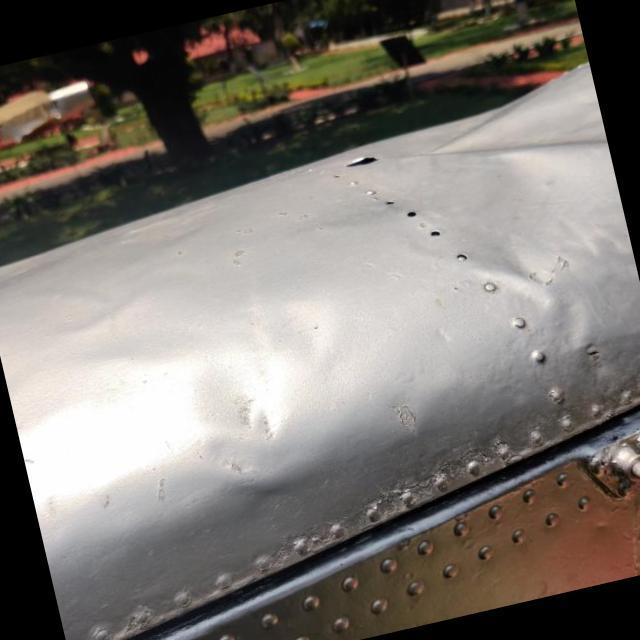Dent: (458, 207, 601, 331), (216, 442, 328, 548)
Fastener Damage: (412, 213, 457, 254), (392, 194, 432, 233), (372, 186, 408, 220)
